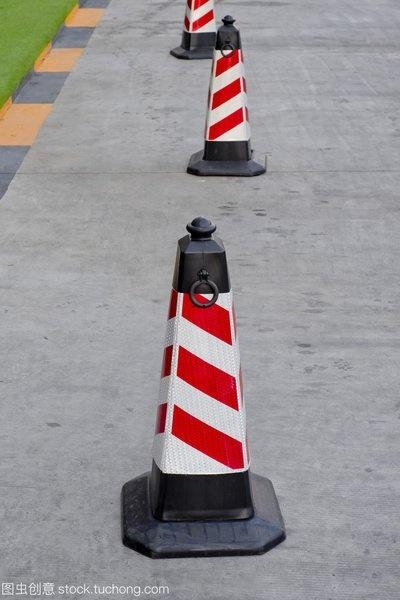cone_barrel: (120, 215, 278, 536), (183, 16, 267, 173), (168, 0, 214, 57)
